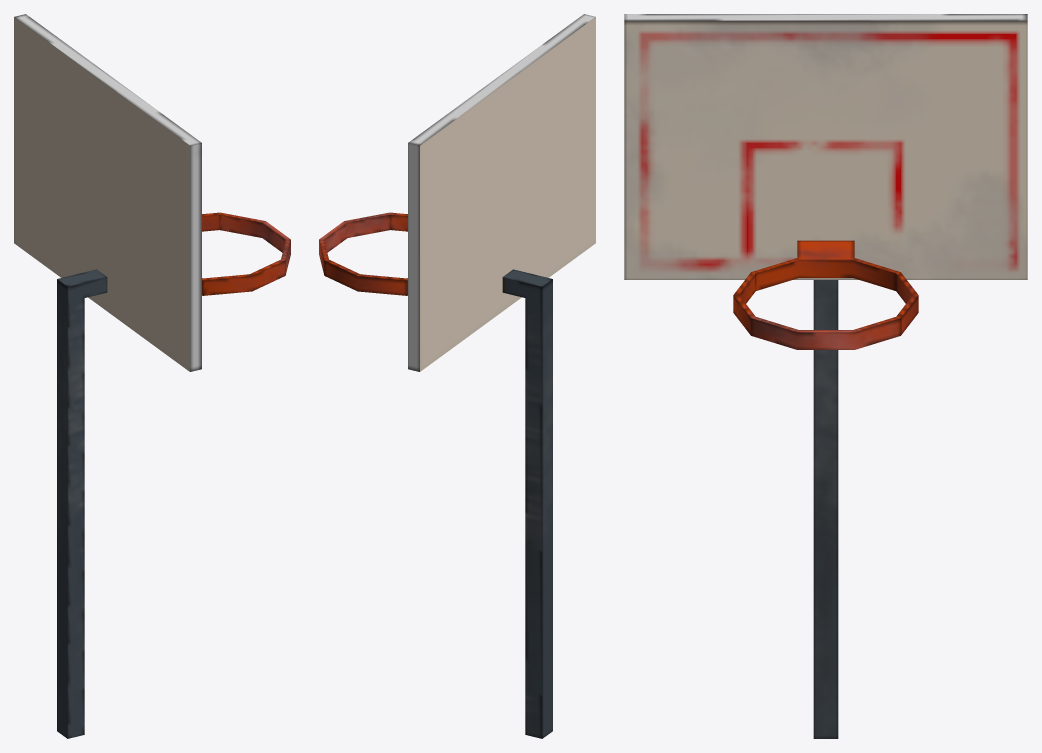
Rendered from basketball.FBX.
The picture shows the model from 3 angles, left to right: view 1: azimuth 30°, elevation 25°; view 2: azimuth 150°, elevation 25°; view 3: azimuth 270°, elevation 25°; orthographic projection. The views are drawn at different scales.
Visible parts, largest first — view 1: Tube006; view 2: Tube006; view 3: Tube006.
Boxes of the visible parts, <box> form: Tube006: <box>14,14,290,738</box>; Tube006: <box>319,14,595,738</box>; Tube006: <box>624,14,1027,738</box>.
Bounding box in the file's own units: 61.94 × 176 × 87.37.
